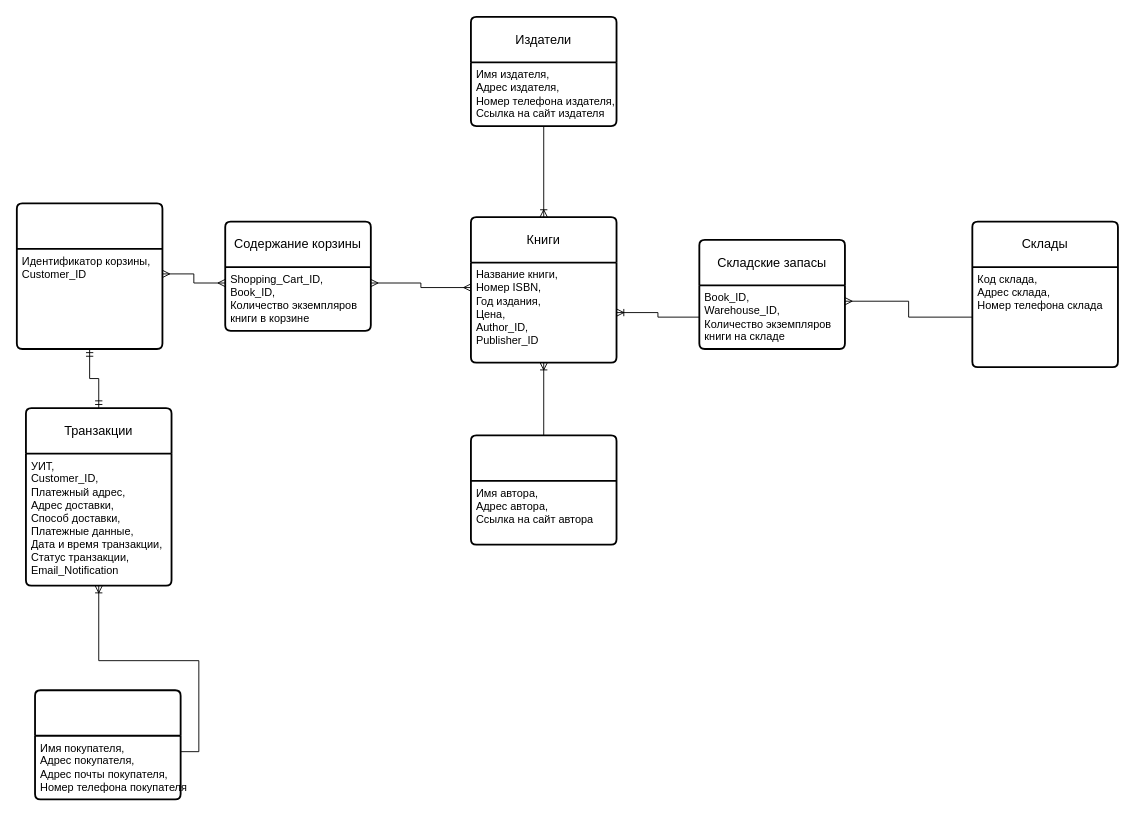
Some shapes in this 1134 by 815 pixel diagram are drawn without their labels. The shapes that lost their labels are listed below. From the top down, each one's box as (x1, y1, x2, y2) in pixels, then its label:
(15, 202, 163, 349): Корзина
(470, 434, 617, 545): Авторы
(34, 689, 181, 800): Покупатели
